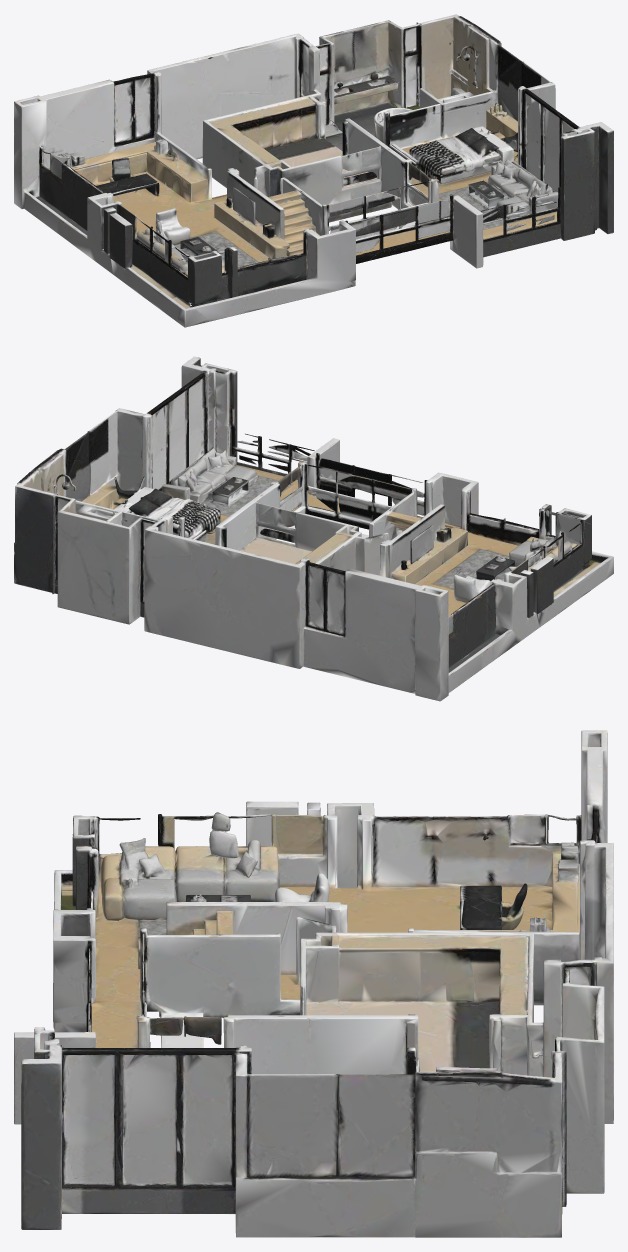
The model's file is floor_plan_2.glb.
3 views of the same model, one above another, from view 1: azimuth 30°, elevation 25°; view 2: azimuth 150°, elevation 25°; view 3: azimuth 270°, elevation 25° (orthographic). The views are drawn at different scales.
Size of the model in its own units: 1.9 by 0.459 by 1.41.
1 material, 1 textured.
